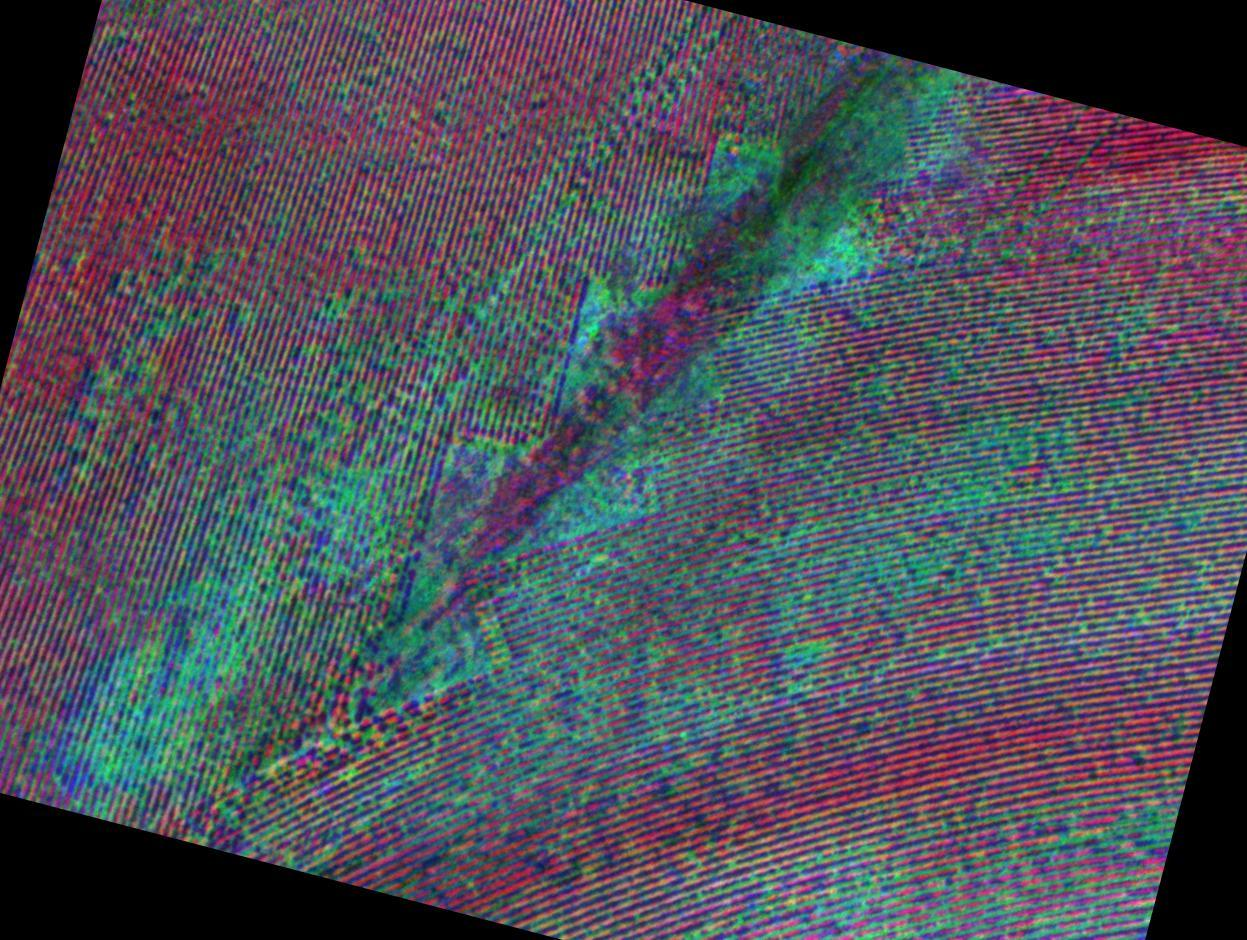dc: (206, 503, 299, 647), (73, 683, 171, 781), (946, 445, 1032, 548), (796, 208, 874, 282), (568, 483, 638, 537)
